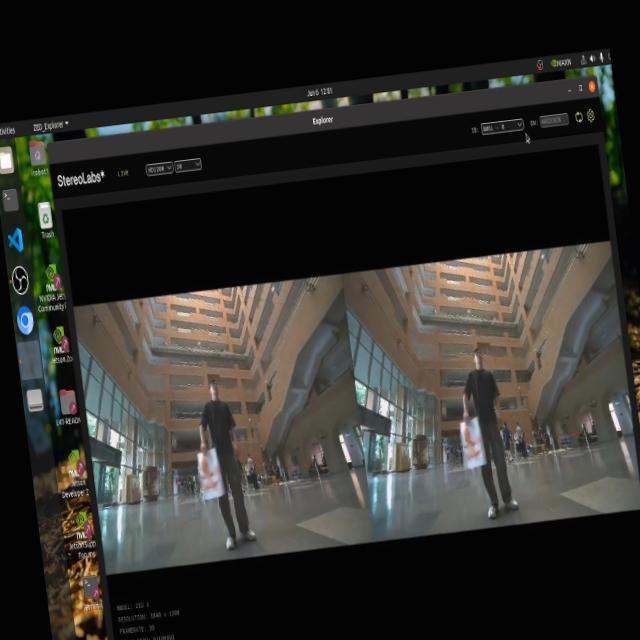red: (452, 416, 484, 466), (196, 452, 226, 503)
